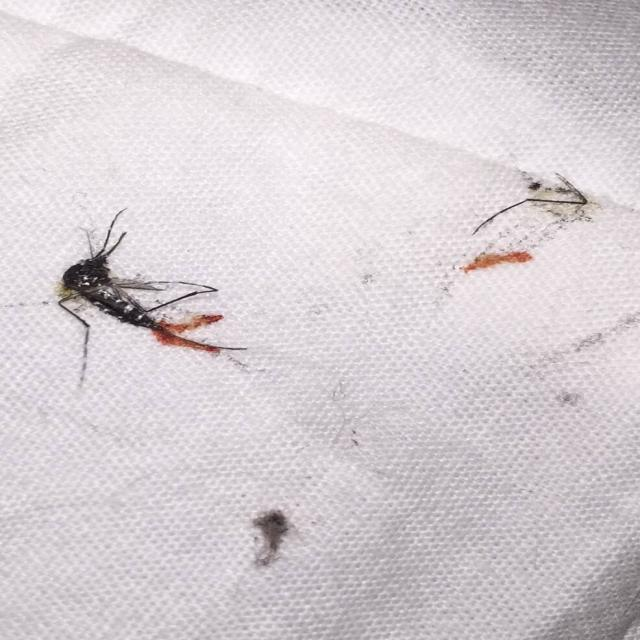albopictus: (29, 201, 270, 386)
